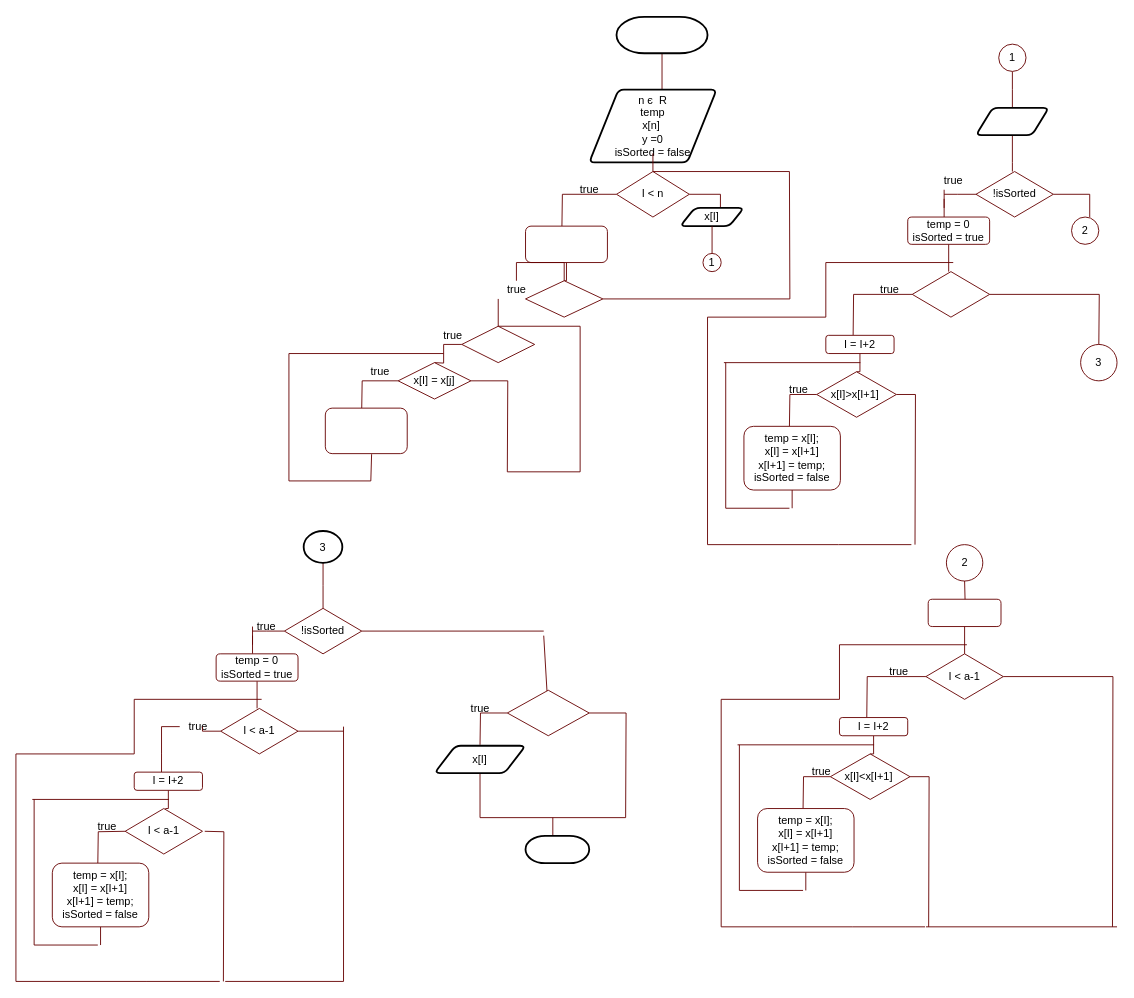
This 1134x998 diagram has some shape labels left out. The shapes that lost their labels are listed below. From the top down, each one's box as (x1, y1, x2, y2) in pixels, then its label:
(615, 15, 708, 54): start
(975, 106, 1049, 136): a = x[0]
(525, 225, 607, 263): y = x[I];
(525, 280, 603, 317): I>=0
(911, 271, 990, 317): I < n-1
(461, 325, 535, 363): j<i
(324, 407, 407, 454): j = 0 y = x[I]
(927, 598, 1001, 627): temp = 0 isSorted=true
(506, 689, 589, 736): I<n
(524, 834, 590, 864): end
